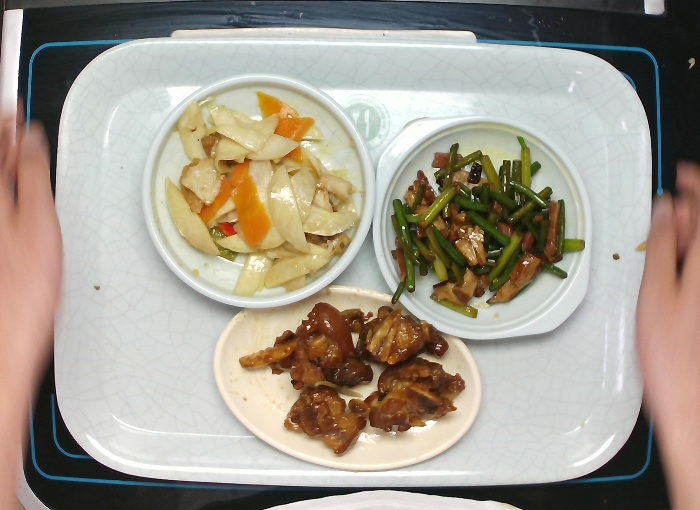JYsf-Shuang_Er_Pan: (370, 112, 593, 343)
JYsf-Tuo_Yuan_Wan: (205, 279, 489, 472)
JYsf-Xiao_Yuan_Pan: (137, 68, 378, 312)
